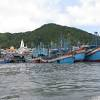tau_dansu: (71, 42, 85, 65), (85, 40, 100, 61)
